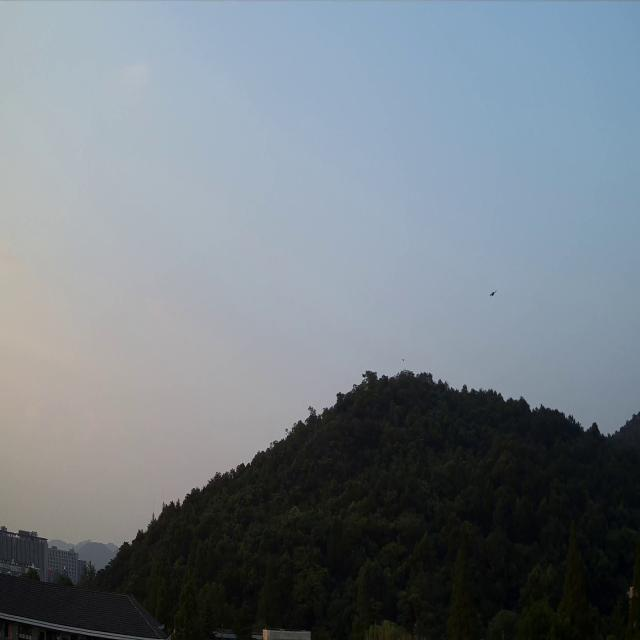UAV: (488, 289, 498, 300)
